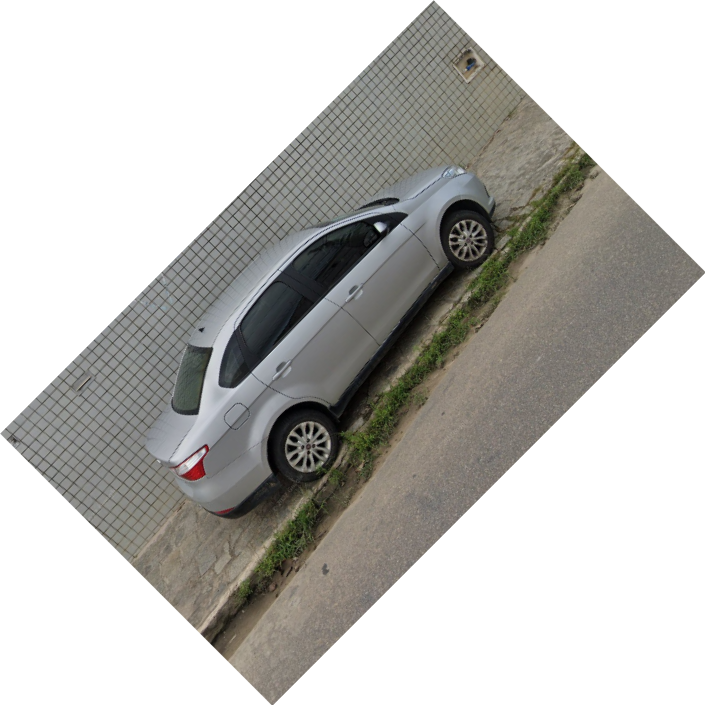car: (138, 158, 500, 520)
